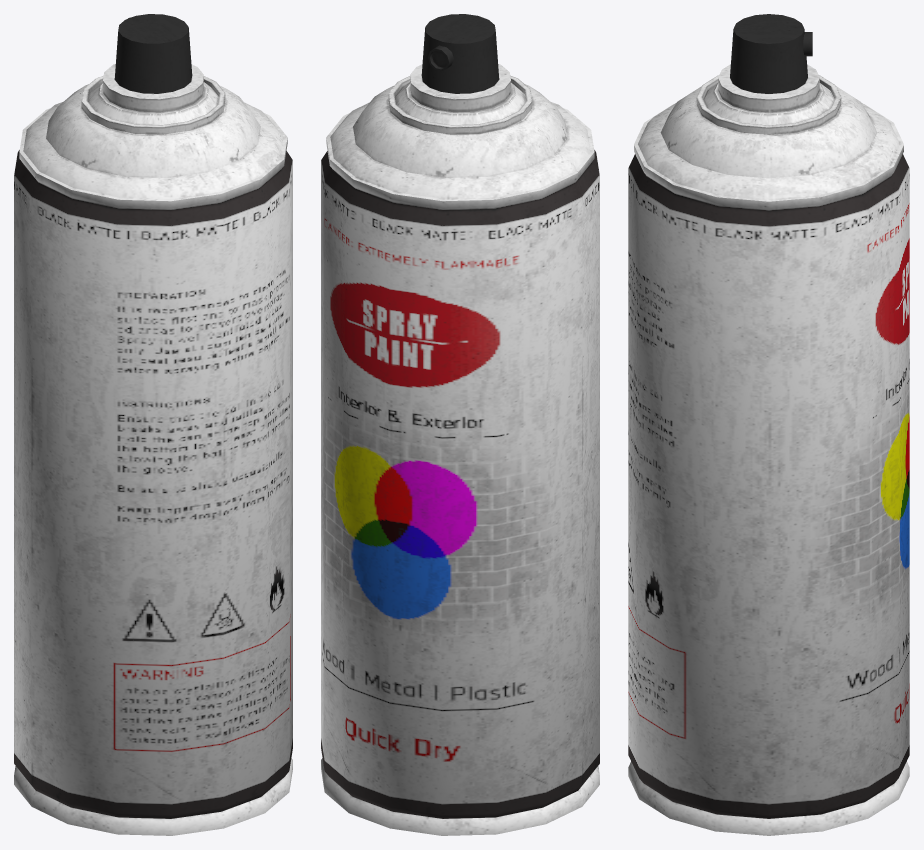
File: Spray.fbx
3 renders of one model, left to right at view 1: azimuth 30°, elevation 25°; view 2: azimuth 150°, elevation 25°; view 3: azimuth 270°, elevation 25°, orthographic.
Visible parts, largest first — view 1: SprayCan; view 2: SprayCan; view 3: SprayCan.
Boxes of the visible parts, x1,y1,x2,y2 form: SprayCan: [14, 14, 292, 835]; SprayCan: [321, 14, 599, 835]; SprayCan: [628, 14, 909, 835].
Size of the model in its own units: 38.13 by 112 by 38.13.
